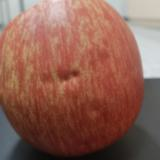apple: (1, 1, 145, 158)
